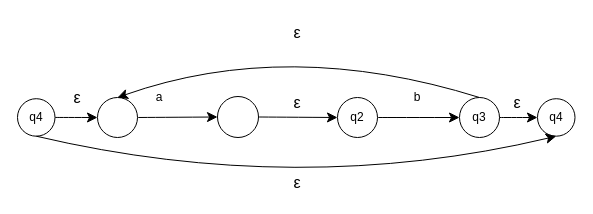
This 593x214 diagram has some shape labels left out. Here are the shapes that lost their labels. From the top down, the centre of each, then its label:
[117,117]: q0
[237,117]: q1
